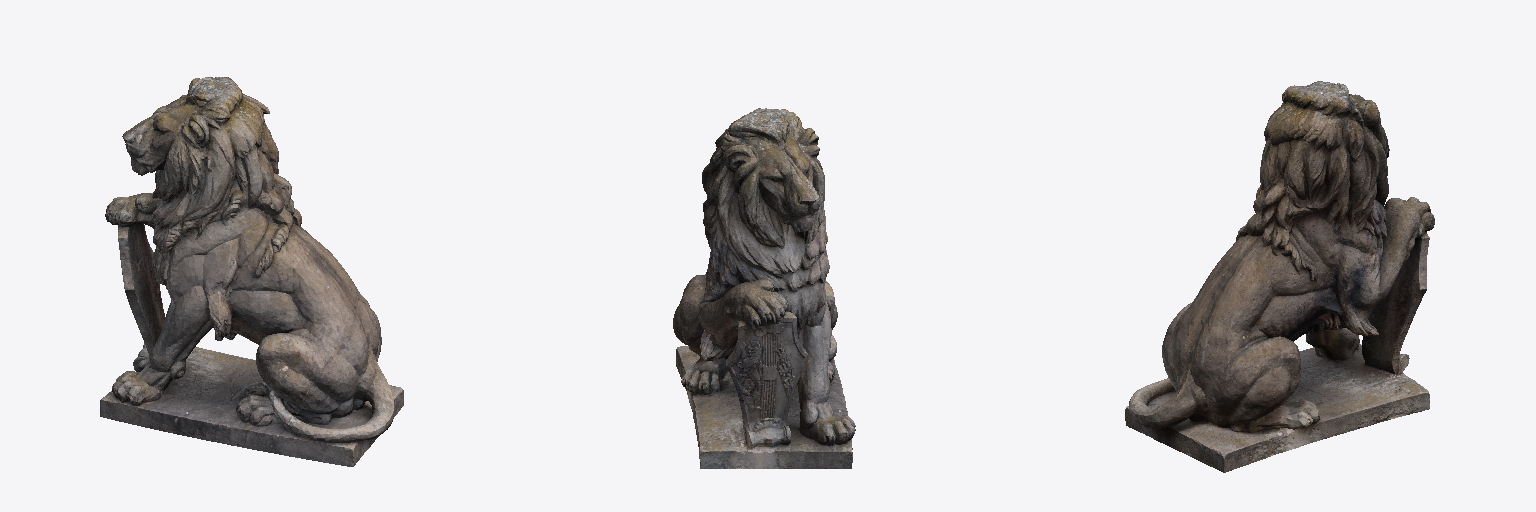
The picture shows the model from 3 angles: view 1: azimuth 30°, elevation 25°; view 2: azimuth 150°, elevation 25°; view 3: azimuth 270°, elevation 25°; orthographic projection.
Parts seen in each view (by area): view 1: mesh_0; view 2: mesh_0; view 3: mesh_0.
Part boxes in pixels (x1,y1,x2,y2): mesh_0: (100, 77, 403, 466); mesh_0: (673, 108, 855, 468); mesh_0: (1125, 81, 1434, 472).
Size of the model in its own units: 15.82 by 20.09 by 17.66.
1 materials, 1 textured.